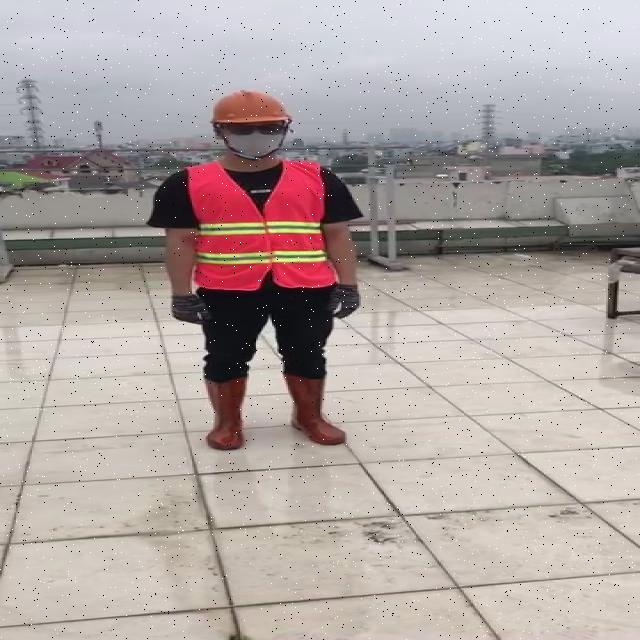Hard_hat: (203, 85, 298, 133)
Person: (144, 91, 376, 482)
Vest: (188, 156, 336, 292)
